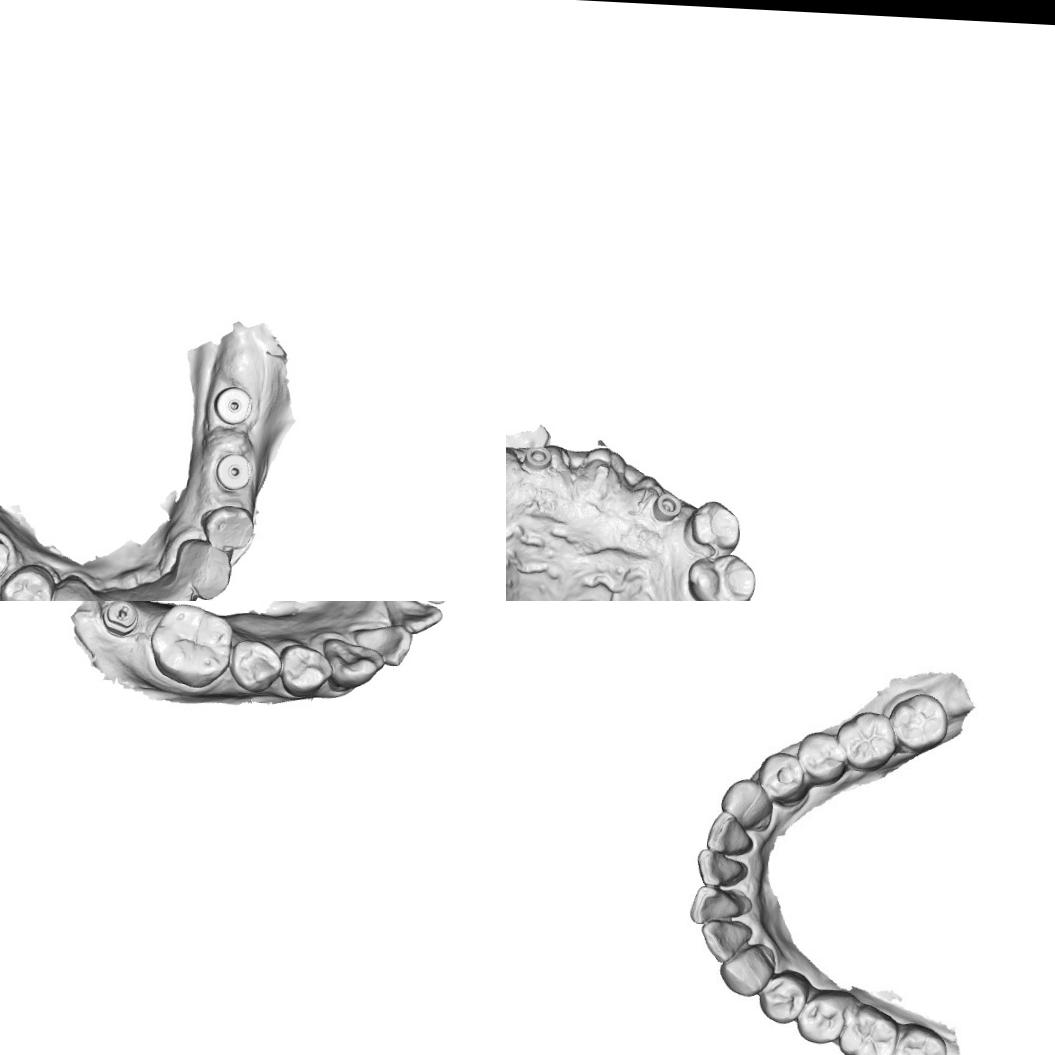canine: (174, 536, 234, 601), (319, 636, 385, 694), (686, 498, 743, 554), (717, 944, 774, 999), (718, 775, 773, 828), (0, 560, 56, 601)
crown: (0, 532, 15, 585)
implant: (210, 382, 255, 427), (212, 450, 255, 492), (645, 490, 687, 524), (524, 440, 554, 472)
implant_minus: (98, 601, 141, 639)
incisor: (348, 620, 414, 667), (687, 882, 747, 928), (698, 918, 751, 964), (704, 810, 754, 855), (379, 601, 443, 635), (693, 845, 742, 889), (44, 571, 99, 601), (157, 571, 200, 601), (125, 581, 168, 601), (95, 586, 138, 601)
molar: (145, 601, 235, 690), (834, 708, 900, 770), (888, 691, 950, 753), (835, 1001, 899, 1055), (888, 1023, 949, 1055)
premolar: (683, 549, 759, 601), (227, 636, 283, 696), (279, 640, 335, 699), (796, 728, 852, 786), (754, 748, 809, 806), (793, 988, 848, 1046), (197, 501, 255, 554), (757, 968, 807, 1026)
